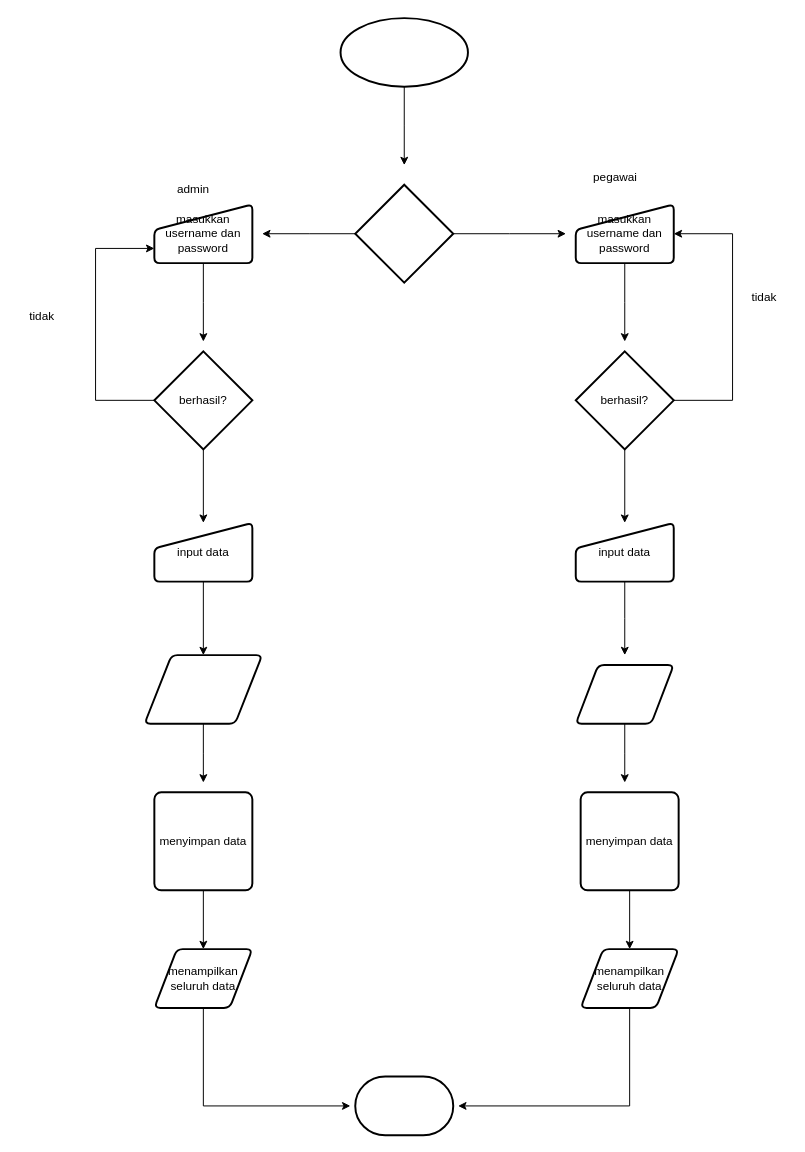
Image size: 805x1152. Some labels were removed from this diagram. The shapes that lost their labels are listed below. From the top down, each one's box as (x1, y1, x2, y2) in pixels, then its label:
(339, 17, 468, 87): mulai
(354, 183, 454, 283): login sebagai
(143, 654, 263, 724): data barang, supplier, bahan mentah, dan data karyawan
(574, 663, 674, 724): data barang, supplier, bahan mentah
(354, 1075, 454, 1136): selesai
